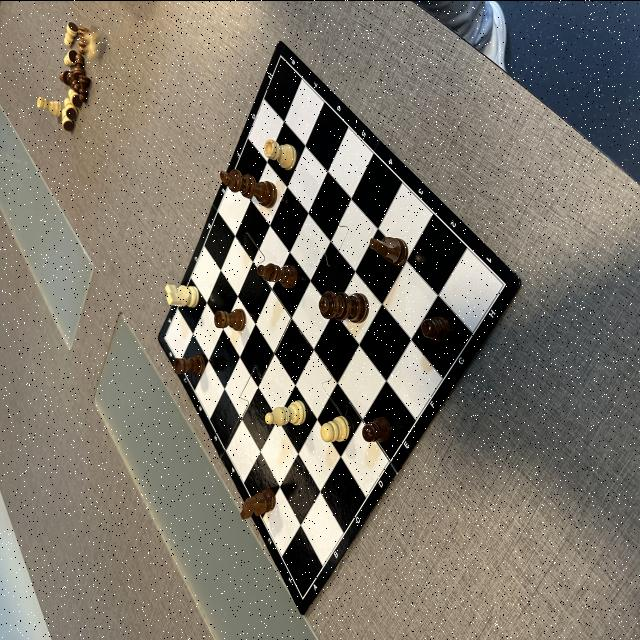Black-Bishop: (257, 263, 298, 287)
Black-King: (220, 168, 277, 208)
Black-Knight: (240, 488, 276, 518), (370, 236, 408, 264)
Black-Pawn: (362, 416, 391, 442), (420, 316, 450, 340), (79, 76, 90, 102), (73, 54, 85, 76), (78, 23, 87, 52), (67, 70, 80, 90), (59, 70, 68, 82)
Black-Queen: (319, 290, 369, 322)
Black-Rook: (214, 308, 246, 330), (174, 354, 204, 374)
White-Bishop: (265, 399, 306, 425)
White-Knight: (165, 284, 199, 308)
White-Pawn: (320, 414, 350, 442), (64, 22, 78, 46), (60, 108, 74, 130), (64, 97, 77, 119), (68, 87, 82, 107), (64, 49, 76, 65)
White-Rook: (264, 139, 297, 169), (38, 96, 62, 116)
